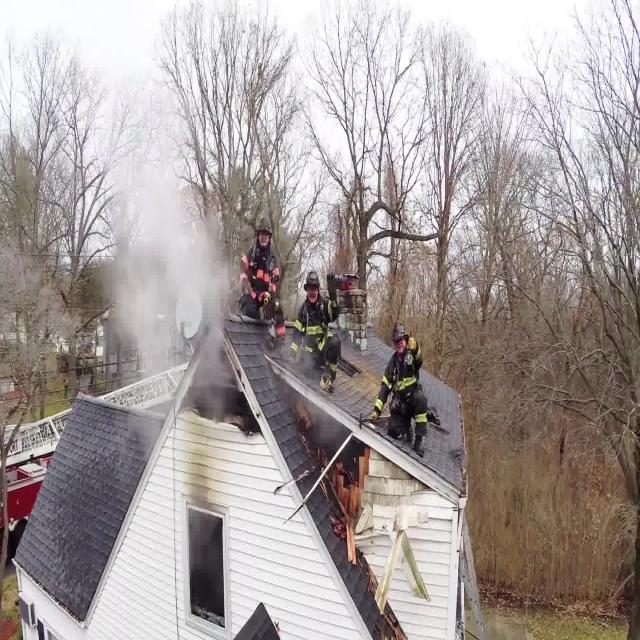Smoke: (116, 163, 218, 407)
